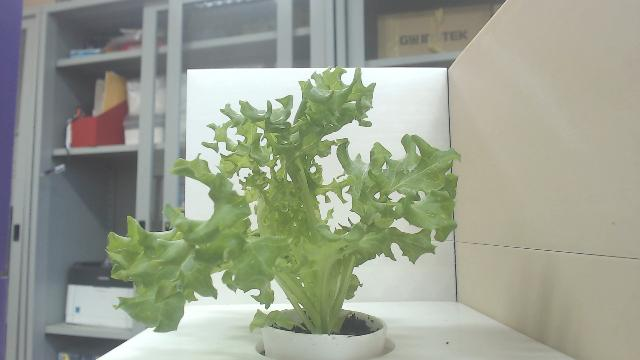Harvest Stage: (103, 65, 461, 334)
